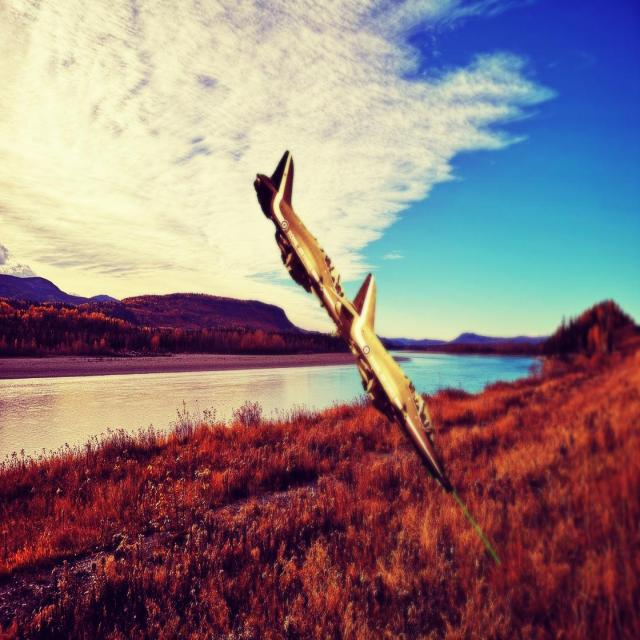airplane: (253, 148, 455, 494)
